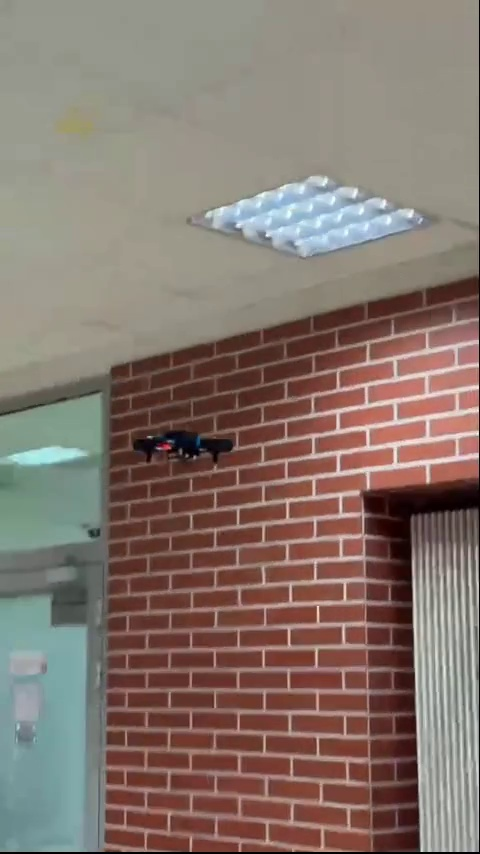drone: (134, 430, 232, 470)
